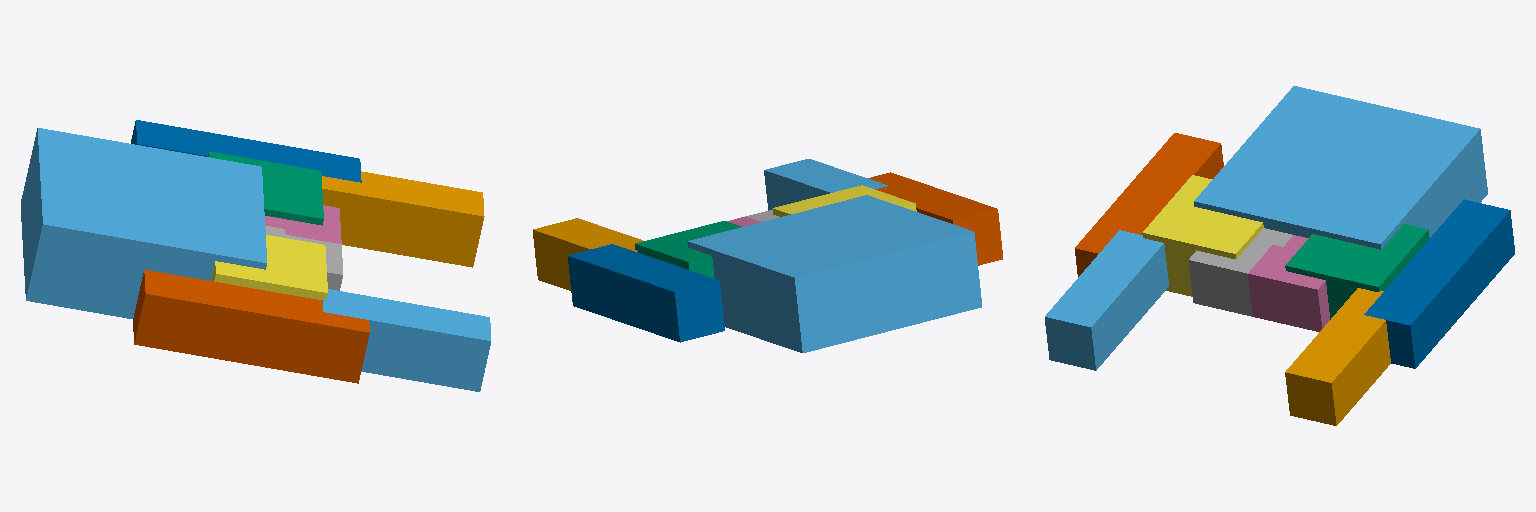
robot.urdf — robotiq_c2:
<?xml version="1.0" ?>
<robot name="robotiq_c2" xmlns:xacro="http://ros.org/wiki/xacro">
  <link name="robotiq_85_adapter_link">
    <visual>
      <geometry>
        <box size="0.04 0.06 0.02"/>
      </geometry>
      <origin rpy="0 0 0" xyz="0 0 0"/>
    </visual>
    <collision>
      <geometry>
        <mesh filename="../meshes/robotiq_c2/collision/robotiq_85_gripper_adapter_plate.stl"/>
      </geometry>
      <origin rpy="0 0 1.5707" xyz="0 0 0"/>
    </collision>
  </link>
  <joint name="robotiq_85_base_joint" type="fixed">
    <parent link="robotiq_85_adapter_link"/>
    <child link="robotiq_85_base_link"/>
    <axis xyz="1 0 0"/>
    <origin rpy="0 0 0" xyz=".0085 0 -.0041"/>
  </joint>
  <link name="robotiq_85_base_link">
    <visual>
      <geometry>
        <box size="0.08 0.08 0.03"/>
      </geometry>
      <origin rpy="0 0 0" xyz="0 0 0"/>
    </visual>
    <collision>
      <geometry>
        <mesh filename="../meshes/robotiq_c2/collision/robotiq_85_gripper_base.stl"/>
      </geometry>
      <origin rpy="1.5707 0 1.5707" xyz="0 0 0"/>
    </collision>
  </link>
  <joint name="robotiq_85_left_knuckle_joint" type="revolute">
    <parent link="robotiq_85_base_link"/>
    <child link="robotiq_85_left_knuckle_link"/>
    <axis xyz="1 0 0"/>
    <origin rpy="-1.5707 1.5707 0" xyz="0.04191 0.0306 0"/>
    <limit effort="1000" lower="0" upper="0.8575" velocity="2.0"/>
  </joint>
  <joint name="robotiq_85_right_knuckle_joint" type="revolute">
    <parent link="robotiq_85_base_link"/>
    <child link="robotiq_85_right_knuckle_link"/>
    <axis xyz="1 0 0"/>
    <origin rpy="1.5707 -1.5707 0" xyz=".04191 -.0306 0"/>
    <limit effort="1000" lower="0" upper="1.5707" velocity="2.0"/>
    <mimic joint="robotiq_85_left_knuckle_joint" multiplier="1"/>
  </joint>
  <link name="robotiq_85_left_knuckle_link">
    <visual>
      <geometry>
        <box size="0.025 0.04 0.04"/>
      </geometry>
      <origin rpy="0 0 0" xyz="0 0 0"/>
    </visual>
    <collision>
      <geometry>
        <mesh filename="../meshes/robotiq_c2/collision/robotiq_85_gripper_joint_0_L.stl"/>
      </geometry>
      <origin rpy="1.5707 -1.5707 0" xyz="0 .04191 -.0306"/>
    </collision>
  </link>
  <link name="robotiq_85_right_knuckle_link">
    <visual>
      <geometry>
        <box size="0.025 0.04 0.04"/>
      </geometry>
      <origin rpy="0 0 0" xyz="0 0 0"/>
    </visual>
    <collision>
      <geometry>
        <mesh filename="../meshes/robotiq_c2/collision/robotiq_85_gripper_joint_0_R.stl"/>
      </geometry>
      <origin rpy="1.5707 1.5707 0" xyz="0 .04191 -.0306"/>
    </collision>
  </link>
  <joint name="robotiq_85_left_finger_joint" type="fixed">
    <parent link="robotiq_85_left_knuckle_link"/>
    <child link="robotiq_85_left_finger_link"/>
    <axis xyz="1 0 0"/>
    <origin rpy="3.1415 0 0" xyz="0 .00508 .03134"/>
    <limit effort="1000" lower="0" upper="1.5707" velocity="2.0"/>
  </joint>
  <joint name="robotiq_85_right_finger_joint" type="fixed">
    <parent link="robotiq_85_right_knuckle_link"/>
    <child link="robotiq_85_right_finger_link"/>
    <axis xyz="1 0 0"/>
    <origin rpy="3.1415 0 0" xyz="0 .00508 .03134"/>
    <limit effort="1000" lower="0" upper="1.5707" velocity="2.0"/>
  </joint>
  <link name="robotiq_85_left_finger_link">
    <visual>
      <geometry>
        <box size="0.02 0.08 0.02"/>
      </geometry>
      <origin rpy="0 0 0" xyz="0 0 0"/>
    </visual>
    <collision>
      <geometry>
        <mesh filename="../meshes/robotiq_c2/collision/robotiq_85_gripper_joint_1_L.stl"/>
      </geometry>
      <origin rpy="-1.5707 1.5707 0" xyz="0 -.03683 .06194"/>
    </collision>
  </link>
  <link name="robotiq_85_right_finger_link">
    <visual>
      <geometry>
        <box size="0.02 0.08 0.02"/>
      </geometry>
      <origin rpy="0 0 0" xyz="0 0 0"/>
    </visual>
    <collision>
      <geometry>
        <mesh filename="../meshes/robotiq_c2/collision/robotiq_85_gripper_joint_1_R.stl"/>
      </geometry>
      <origin rpy="-1.5707 -1.5707 0" xyz="0 -.03683 .06194"/>
    </collision>
  </link>
  <joint name="robotiq_85_left_inner_knuckle_joint" type="revolute">
    <parent link="robotiq_85_base_link"/>
    <child link="robotiq_85_left_inner_knuckle_link"/>
    <axis xyz="1 0 0"/>
    <origin rpy="1.5707 1.5707 0" xyz=".04843 .0127 0"/>
    <limit effort="1000" lower="0" upper="1.5707" velocity="2.0"/>
    <mimic joint="robotiq_85_left_knuckle_joint" offset="0"/>
  </joint>
  <joint name="robotiq_85_right_inner_knuckle_joint" type="revolute">
    <parent link="robotiq_85_base_link"/>
    <child link="robotiq_85_right_inner_knuckle_link"/>
    <axis xyz="1 0 0"/>
    <origin rpy="-1.5707 -1.5707 0" xyz=".04843 -.0127 0"/>
    <limit effort="1000" lower="0" upper="1.5707" velocity="2.0"/>
    <mimic joint="robotiq_85_left_knuckle_joint" offset="0"/>
  </joint>
  <link name="robotiq_85_left_inner_knuckle_link">
    <visual>
      <geometry>
        <box size="0.02 0.04 0.03"/>
      </geometry>
      <origin rpy="0 0 0" xyz="0 0 0"/>
    </visual>
    <collision>
      <geometry>
        <mesh filename="../meshes/robotiq_c2/collision/robotiq_85_gripper_joint_2_L.stl"/>
      </geometry>
      <origin rpy="-1.5707 1.5707 0" xyz="0 -.04843 .0127"/>
    </collision>
  </link>
  <link name="robotiq_85_right_inner_knuckle_link">
    <visual>
      <geometry>
        <box size="0.02 0.04 0.03"/>
      </geometry>
      <origin rpy="0 0 0" xyz="0 0 0"/>
    </visual>
    <collision>
      <geometry>
        <mesh filename="../meshes/robotiq_c2/collision/robotiq_85_gripper_joint_2_R.stl"/>
      </geometry>
      <origin rpy="-1.5707 -1.5707 0" xyz="0 -.04843 .0127"/>
    </collision>
  </link>
  <joint name="robotiq_85_left_finger_tip_joint" type="revolute">
    <parent link="robotiq_85_left_inner_knuckle_link"/>
    <child link="robotiq_85_left_finger_tip_link"/>
    <axis xyz="1 0 0"/>
    <origin rpy="0 0 0" xyz="0 .04196 -.0388"/>
    <limit effort="1000" lower="0" upper="1.5707" velocity="2.0"/>
    <mimic joint="robotiq_85_left_knuckle_joint" multiplier="-1"/>
  </joint>
  <joint name="robotiq_85_right_finger_tip_joint" type="revolute">
    <parent link="robotiq_85_right_inner_knuckle_link"/>
    <child link="robotiq_85_right_finger_tip_link"/>
    <axis xyz="1 0 0"/>
    <origin rpy="0 0 0" xyz="0 .04196 -.0388"/>
    <limit effort="1000" lower="0" upper="1.5707" velocity="2.0"/>
    <mimic joint="robotiq_85_left_knuckle_joint" multiplier="-1"/>
  </joint>
  <link name="robotiq_85_left_finger_tip_link">
    <visual>
      <geometry>
        <box size="0.02 0.06 0.02"/>
      </geometry>
      <origin rpy="0 0 0" xyz="0 0 0"/>
    </visual>
    <collision>
      <geometry>
        <mesh filename="../meshes/robotiq_c2/collision/robotiq_85_gripper_joint_3_L.stl"/>
      </geometry>
      <origin rpy="-1.5707 1.5707 0" xyz="0 -.090381 .051505"/>
    </collision>
  </link>
  <link name="robotiq_85_right_finger_tip_link">
    <visual>
      <geometry>
        <box size="0.02 0.06 0.02"/>
      </geometry>
      <origin rpy="0 0 0" xyz="0 0 0"/>
    </visual>
    <collision>
      <geometry>
        <mesh filename="../meshes/robotiq_c2/collision/robotiq_85_gripper_joint_3_R.stl"/>
      </geometry>
      <origin rpy="-1.5707 -1.5707 0" xyz="0 -.090381 .051505"/>
    </collision>
  </link>

  <link name="world"/>
  <joint name="world_joint" type="fixed">
    <parent link="world"/>
    <child link="robotiq_85_adapter_link"/>
    <origin rpy="0.0 0.2 -0.5" xyz="0.0 0.0 0.2"/>
  </joint>

</robot>

--- Render facts (derived) ---
The picture shows the robot from 3 angles, left to right: view 1: azimuth 30°, elevation 25°; view 2: azimuth 150°, elevation 25°; view 3: azimuth 270°, elevation 25°; orthographic projection.
Model robotiq_c2 with 11 links and 10 joints (6 revolute, 4 fixed), rooted at world, posed all joints at 0.
Visible links, largest first — view 1: robotiq_85_base_link, robotiq_85_right_finger_link, robotiq_85_left_finger_tip_link, robotiq_85_right_finger_tip_link, robotiq_85_left_finger_link, robotiq_85_right_knuckle_link, robotiq_85_left_knuckle_link, robotiq_85_left_inner_knuckle_link, robotiq_85_right_inner_knuckle_link; view 2: robotiq_85_base_link, robotiq_85_left_finger_link, robotiq_85_right_finger_link, robotiq_85_left_finger_tip_link, robotiq_85_right_finger_tip_link, robotiq_85_left_knuckle_link, robotiq_85_right_knuckle_link; view 3: robotiq_85_base_link, robotiq_85_left_finger_link, robotiq_85_right_finger_tip_link, robotiq_85_left_finger_tip_link, robotiq_85_right_finger_link, robotiq_85_right_knuckle_link, robotiq_85_left_knuckle_link, robotiq_85_left_inner_knuckle_link, robotiq_85_right_inner_knuckle_link.
Boxes of the visible links, x1,y1,x2,y2 form: robotiq_85_base_link: (21, 128, 266, 318); robotiq_85_right_finger_link: (133, 270, 369, 383); robotiq_85_left_finger_tip_link: (322, 171, 484, 267); robotiq_85_right_finger_tip_link: (322, 289, 490, 391); robotiq_85_left_finger_link: (131, 120, 361, 182); robotiq_85_right_knuckle_link: (211, 235, 327, 299); robotiq_85_left_knuckle_link: (208, 151, 323, 225); robotiq_85_left_inner_knuckle_link: (265, 205, 341, 243); robotiq_85_right_inner_knuckle_link: (265, 226, 342, 290); robotiq_85_base_link: (687, 195, 981, 352); robotiq_85_left_finger_link: (568, 244, 724, 342); robotiq_85_right_finger_link: (868, 172, 1002, 265); robotiq_85_left_finger_tip_link: (533, 218, 642, 290); robotiq_85_right_finger_tip_link: (764, 159, 887, 210); robotiq_85_left_knuckle_link: (635, 221, 741, 278); robotiq_85_right_knuckle_link: (772, 185, 916, 216); robotiq_85_base_link: (1194, 86, 1487, 249); robotiq_85_left_finger_link: (1364, 199, 1514, 368); robotiq_85_right_finger_tip_link: (1045, 230, 1168, 370); robotiq_85_left_finger_tip_link: (1285, 288, 1390, 425); robotiq_85_right_finger_link: (1075, 133, 1223, 276); robotiq_85_right_knuckle_link: (1142, 175, 1263, 296); robotiq_85_left_knuckle_link: (1285, 224, 1429, 319); robotiq_85_left_inner_knuckle_link: (1248, 235, 1329, 331); robotiq_85_right_inner_knuckle_link: (1188, 228, 1292, 316).
Bounding box of the posed robot: 0.191 × 0.1771 × 0.0564 m (x, y, z).
Geometry: primitives only (box / cylinder / sphere), no mesh files.
